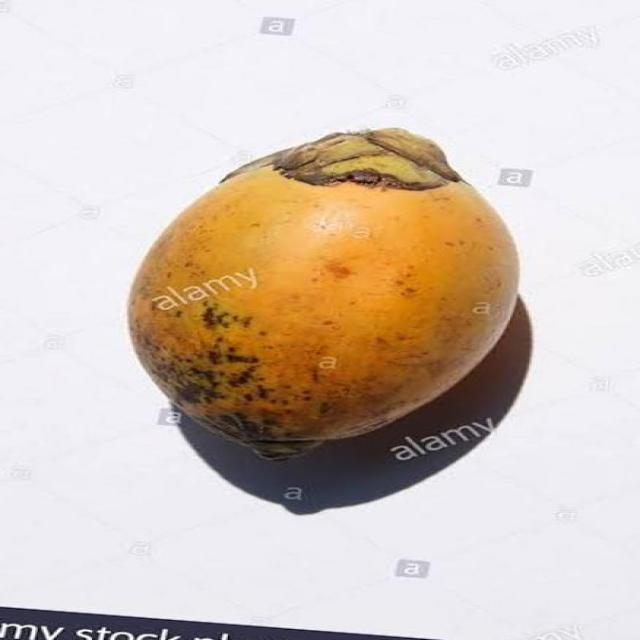good: (126, 129, 520, 463)
